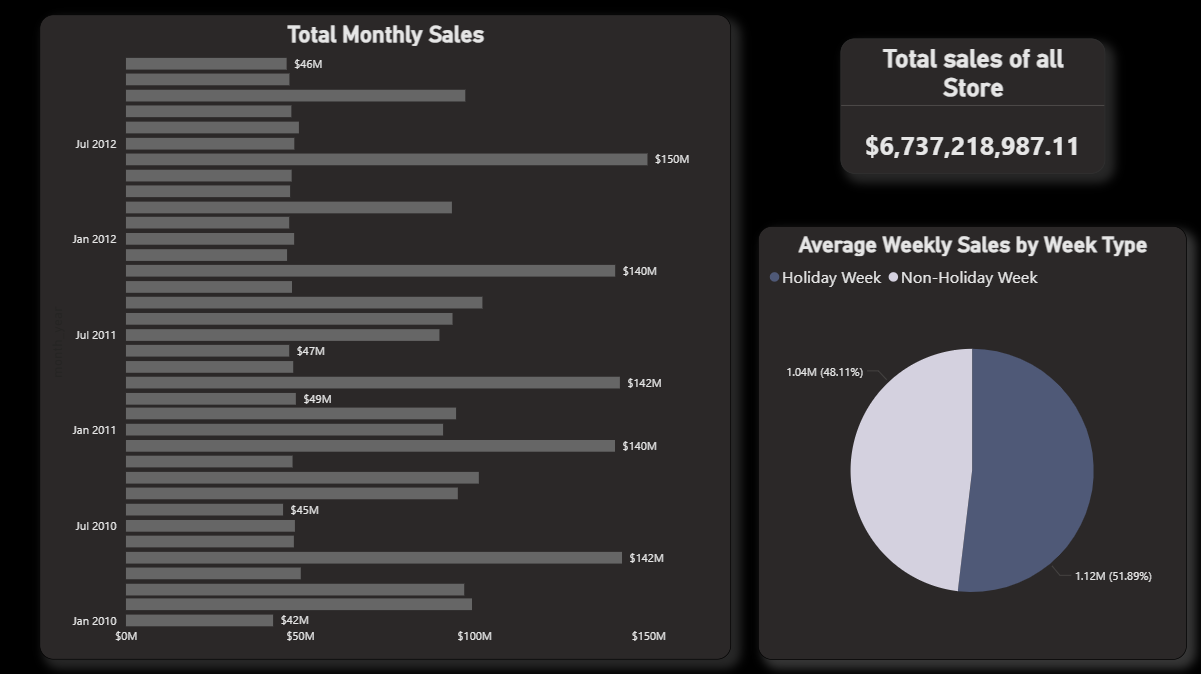

This screenshot's page, from the dashboard's own definition file:
{"tool":"powerbi","page":{"name":"Page 1","canvas":[1280,720],"ordinal":0},"visuals":[{"type":"textbox","title":"Total sales of all Store","box":[891.9,43.5,280.6,143.5],"z":0},{"type":"clusteredBarChart","title":"Total Monthly Sales","fields":{"Category":["monthlysales.month_year"],"Y":["Sum(monthlysales.total_monthly_sales)"]},"box":[43.5,17,733.2,684.1],"z":1000},{"type":"pieChart","title":"Average Weekly Sales by Week Type","fields":{"Category":["Flag.Week_Type"],"Y":["Sum(Flag.Average_Weekly_Sales)"]},"box":[804.8,241.9,454.8,459.7],"z":2000}]}

Visuals, with their boxes in screenshot pixels (x1, y1, x2, y2), scaled from the page's 1280x720 canvas onto the 1201x674 screenshot:
"Total sales of all Store" textbox: x1=837 y1=41 x2=1100 y2=175
"Total Monthly Sales" clusteredBarChart: x1=41 y1=16 x2=729 y2=656
"Average Weekly Sales by Week Type" pieChart: x1=755 y1=226 x2=1182 y2=657
